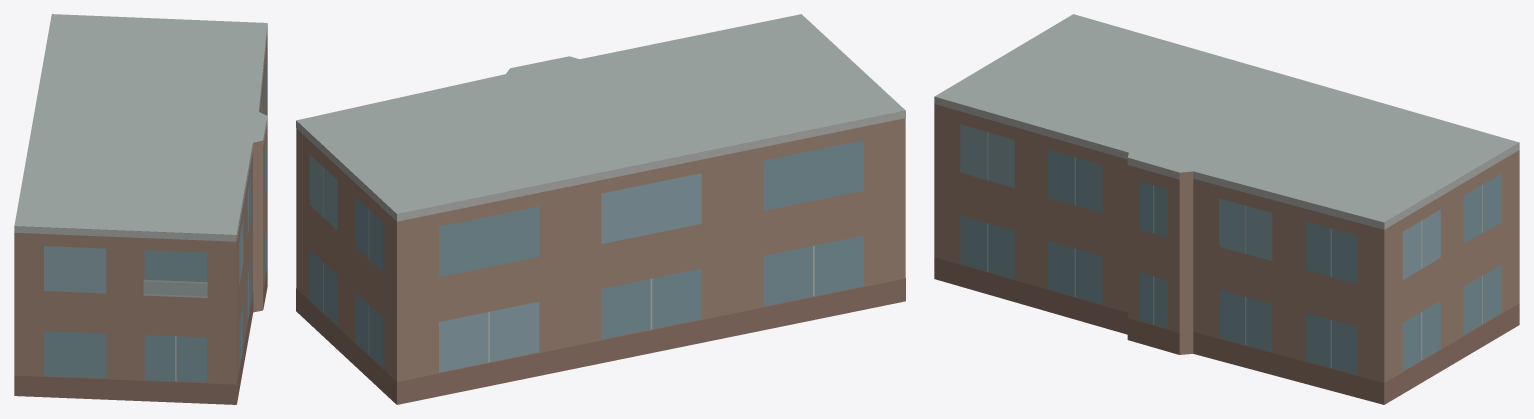
File: survey-upis-32626929.glb
3 renders of one model, left to right at view 1: azimuth 30°, elevation 25°; view 2: azimuth 150°, elevation 25°; view 3: azimuth 270°, elevation 25°, orthographic. The views are drawn at different scales.
Parts seen in each view (by area): view 1: survey-upis-32626929.tmp; view 2: survey-upis-32626929.tmp; view 3: survey-upis-32626929.tmp.
Part boxes in pixels (<box>): survey-upis-32626929.tmp: <box>14,14,267,404</box>; survey-upis-32626929.tmp: <box>296,14,905,404</box>; survey-upis-32626929.tmp: <box>934,14,1519,404</box>.
Bounding box in the file's own units: 14.97 × 6.1 × 17.75.
